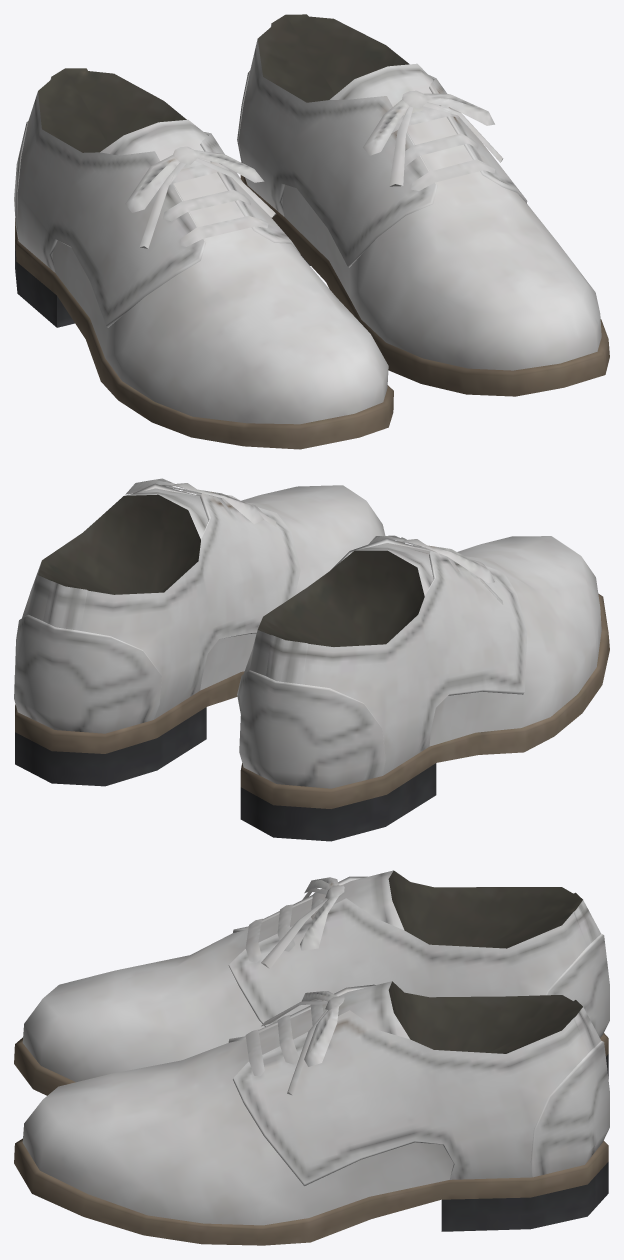
File: p0_ftw0004_00_ftw00.gltf
3 views of the same model, one above another, from view 1: azimuth 30°, elevation 25°; view 2: azimuth 150°, elevation 25°; view 3: azimuth 270°, elevation 25° (orthographic).
Parts seen in each view (by area): view 1: ftw00_shoes_mesh_shape:shoes; view 2: ftw00_shoes_mesh_shape:shoes; view 3: ftw00_shoes_mesh_shape:shoes.
Boxes of the visible parts, x1=… form: ftw00_shoes_mesh_shape:shoes: x1=14, y1=14, x2=609, y2=449; ftw00_shoes_mesh_shape:shoes: x1=14, y1=478, x2=609, y2=841; ftw00_shoes_mesh_shape:shoes: x1=14, y1=870, x2=609, y2=1245.
Size of what is drawn, in the model's own units: 0.237 by 0.107 by 0.2814.
1 material, 1 textured.
